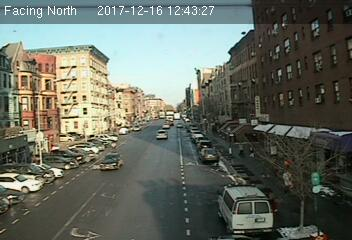car: (101, 153, 123, 171), (200, 147, 219, 162), (155, 129, 168, 140)
police: (218, 180, 277, 237)
